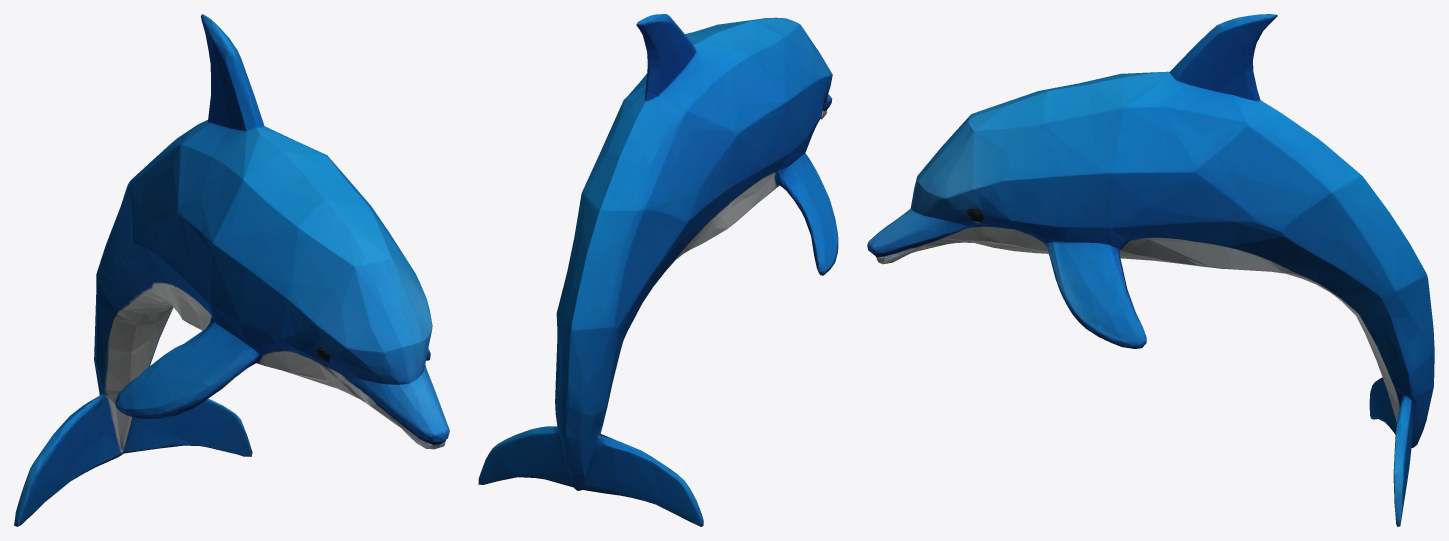
File: dolphin.glb
3 views of the same model, side by side, from view 1: azimuth 30°, elevation 25°; view 2: azimuth 150°, elevation 25°; view 3: azimuth 270°, elevation 25° (orthographic). The views are drawn at different scales.
Parts seen in each view (by area): view 1: world; view 2: world; view 3: world.
Boxes of the visible parts, x1,y1,x2,y2 form: world: (14,14,449,526); world: (478,14,838,526); world: (867,14,1434,526).
Bounding box in the file's own units: 0.5317 × 0.8978 × 0.9997.
Materials: 1 (1 with a texture image).
